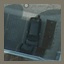car: (26, 13, 43, 52)
